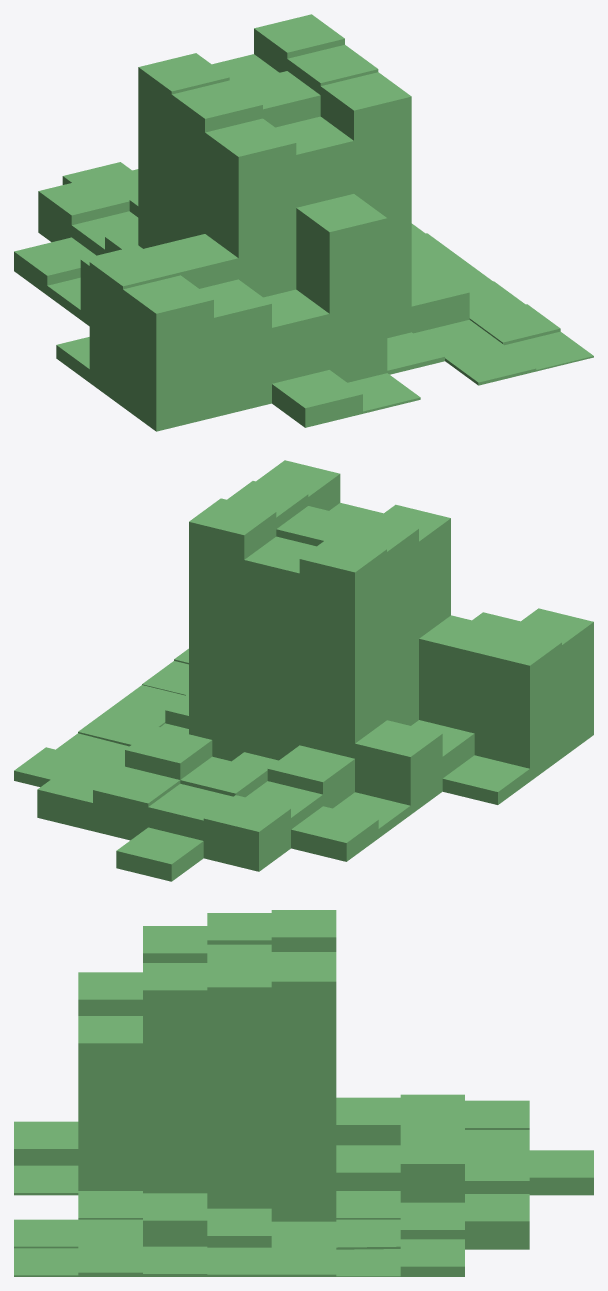
The model's file is SM_Terrain_Mountain_02.fbx.
3 renders of one model, top to bottom at view 1: azimuth 30°, elevation 25°; view 2: azimuth 150°, elevation 25°; view 3: azimuth 270°, elevation 25°, orthographic. The views are drawn at different scales.
Parts seen in each view (by area): view 1: SM_Terrain_Mountain_02; view 2: SM_Terrain_Mountain_02; view 3: SM_Terrain_Mountain_02.
Boxes of the visible parts, bbox=[...] form: SM_Terrain_Mountain_02: bbox=[14, 14, 593, 431]; SM_Terrain_Mountain_02: bbox=[14, 460, 593, 881]; SM_Terrain_Mountain_02: bbox=[14, 910, 593, 1276].
Bounding box in the file's own units: 2800 × 1650 × 3600.
